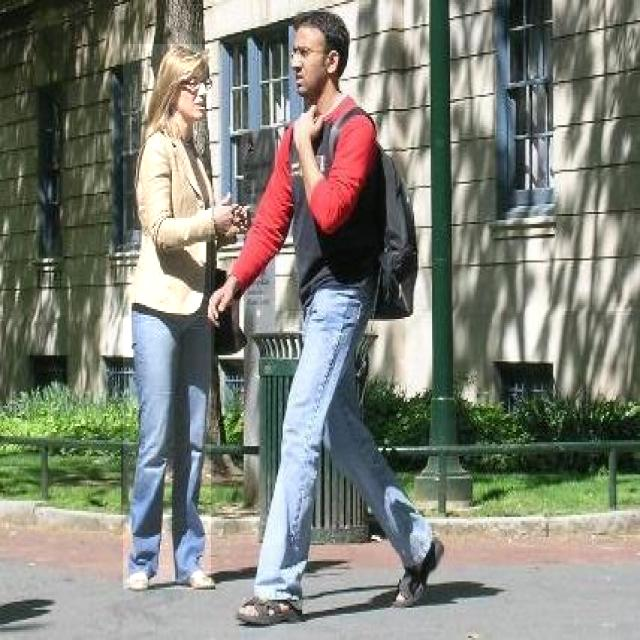with scooter: (211, 7, 446, 629), (123, 44, 246, 589)
